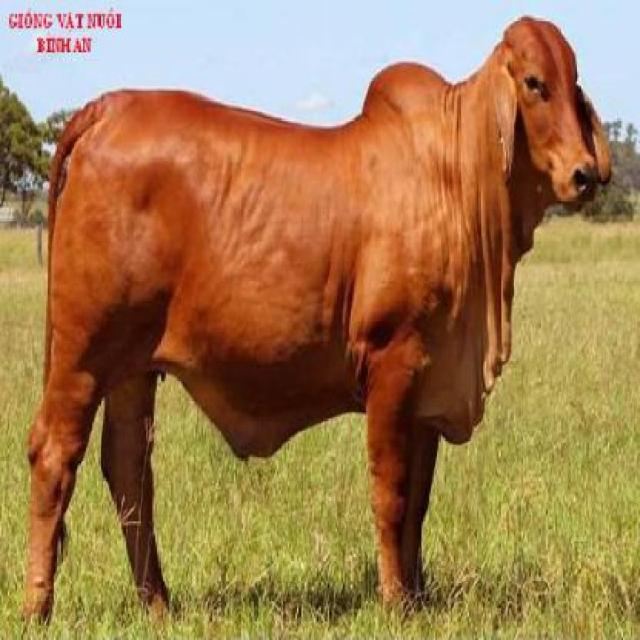Cow: (23, 17, 614, 635)
